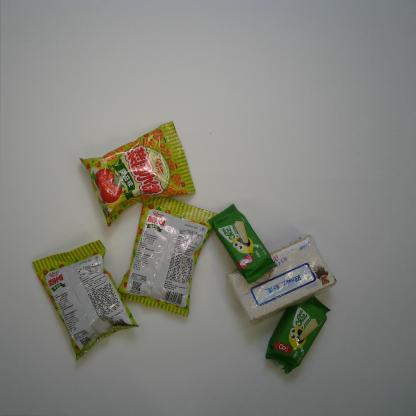Dessert: (209, 202, 278, 284), (264, 292, 332, 375)
Puffed Food: (32, 239, 140, 362), (79, 120, 196, 228), (116, 195, 218, 317)
Tissue: (227, 234, 337, 326)
